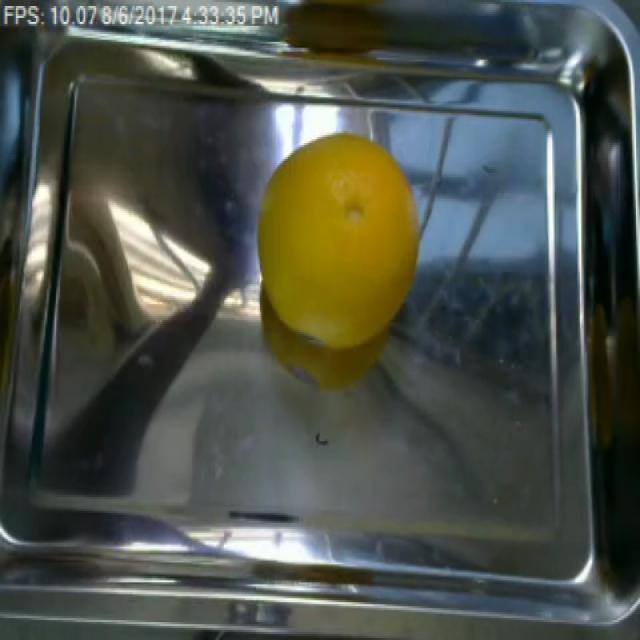Fruit: (254, 121, 426, 360)
